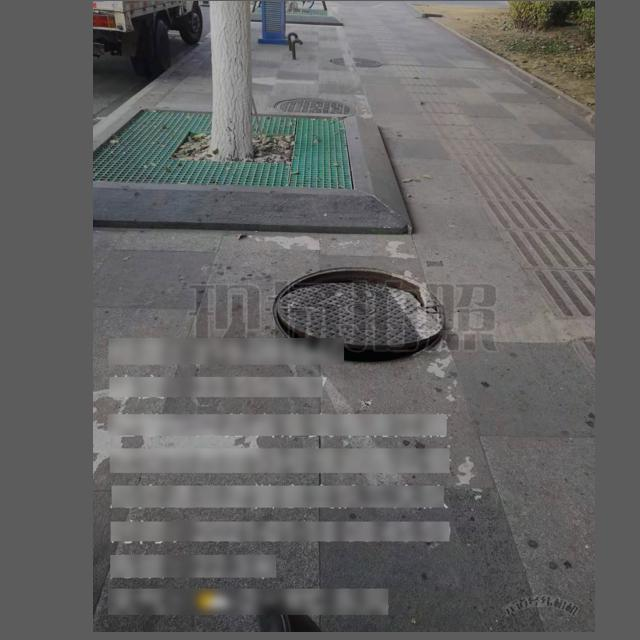uncovered: (272, 266, 445, 363)
